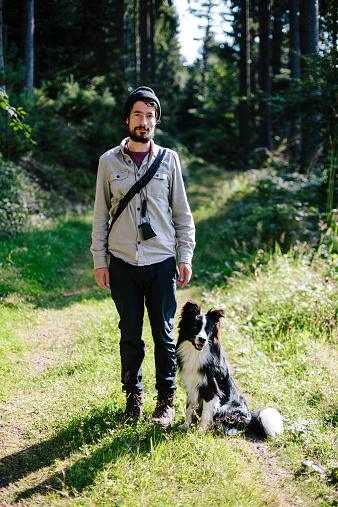em pe: (81, 89, 197, 436)
